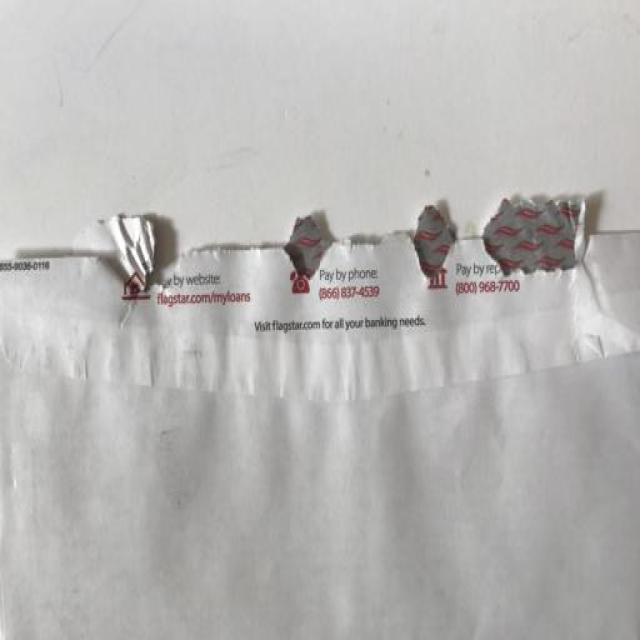paper: (0, 204, 639, 638)
